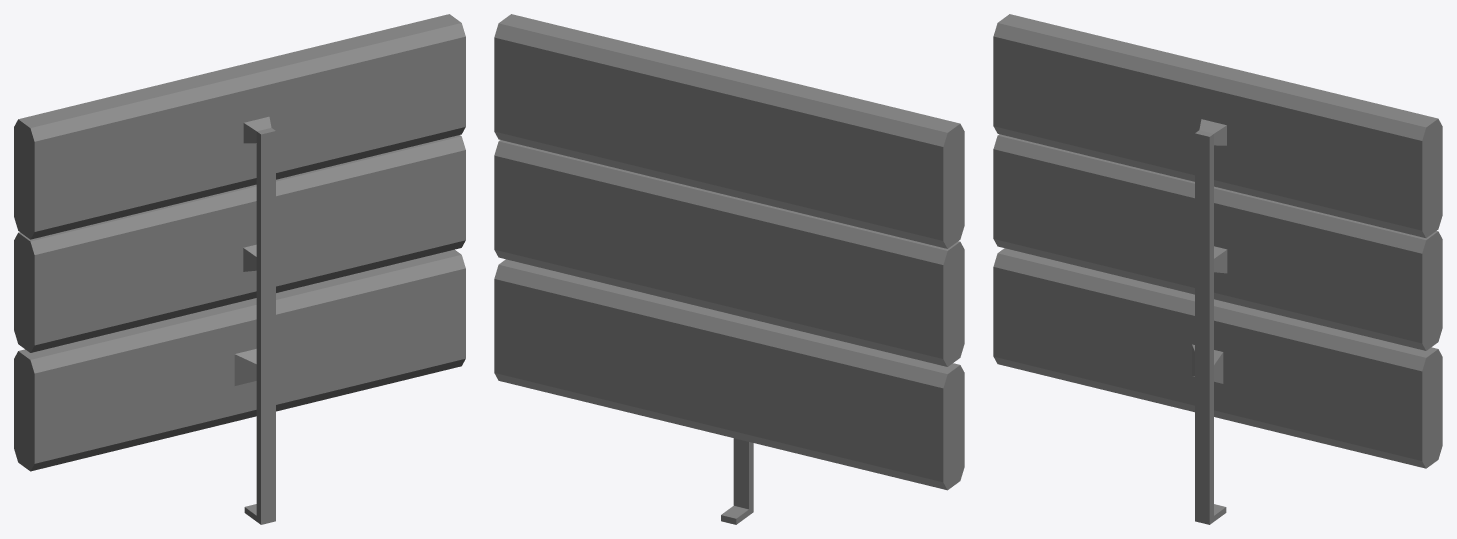
The model's file is Rail.fbx.
3 renders of one model, left to right at view 1: azimuth 30°, elevation 25°; view 2: azimuth 150°, elevation 25°; view 3: azimuth 330°, elevation 25°, orthographic. The views are drawn at different scales.
Parts seen in each view (by area): view 1: Rail; view 2: Rail; view 3: Rail.
Part boxes in pixels (x1,y1,x2,y2): Rail: (14,14,465,524); Rail: (494,14,964,524); Rail: (993,14,1442,524).
Bounding box in the file's own units: 563 × 546 × 73.14.
1 material, 1 textured.
